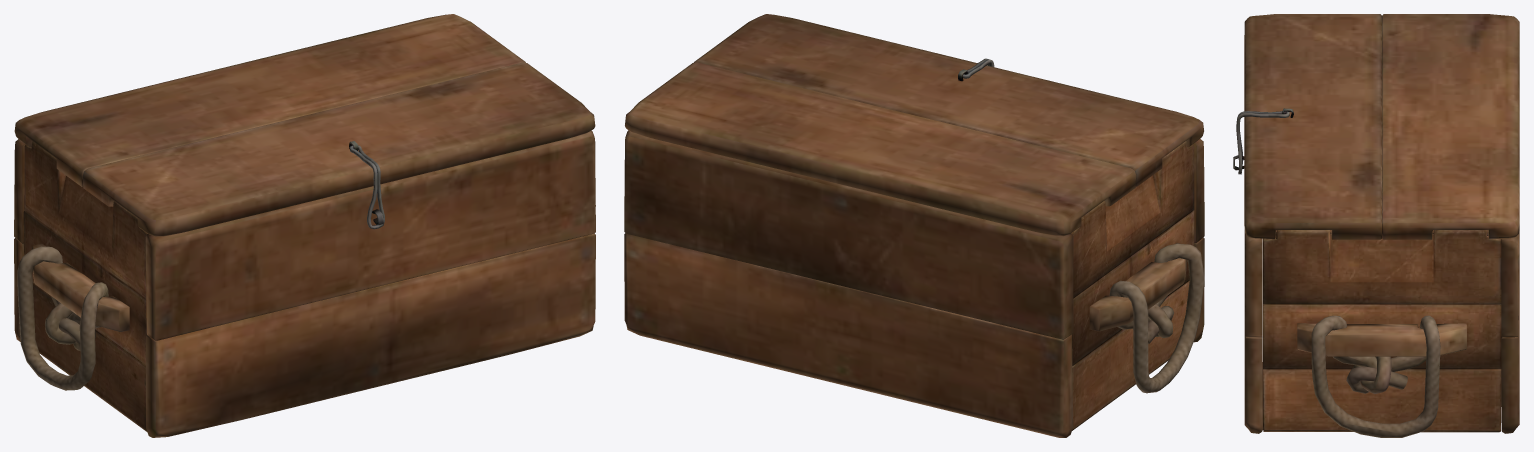
File: wooden_crate_01.glb
The picture shows the model from 3 angles, left to right: view 1: azimuth 30°, elevation 25°; view 2: azimuth 150°, elevation 25°; view 3: azimuth 270°, elevation 25°; orthographic projection. The views are drawn at different scales.
Visible parts, largest first — view 1: wooden_crate_01, wooden_crate_01_lid, wooden_crate_01_latch; view 2: wooden_crate_01, wooden_crate_01_lid; view 3: wooden_crate_01_lid, wooden_crate_01, wooden_crate_01_latch.
Part boxes in pixels (box(x1,y1,x2,y2)): wooden_crate_01: box(14, 130, 595, 437); wooden_crate_01_lid: box(14, 14, 595, 236); wooden_crate_01_latch: box(350, 145, 384, 229); wooden_crate_01: box(624, 130, 1204, 437); wooden_crate_01_lid: box(625, 14, 1203, 236); wooden_crate_01_lid: box(1244, 14, 1519, 239); wooden_crate_01: box(1233, 155, 1519, 437); wooden_crate_01_latch: box(1236, 111, 1289, 174).
Size of the model in its own units: 0.8253 by 0.3495 by 0.4072.
1 material, 1 textured.
